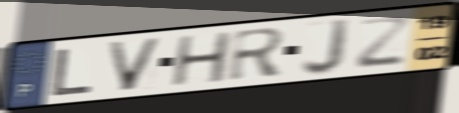H: (169, 30, 234, 88)
J: (299, 17, 353, 77)
L: (48, 47, 96, 98)
R: (226, 25, 288, 84)
V: (105, 36, 166, 93)
Z: (353, 15, 413, 71)
